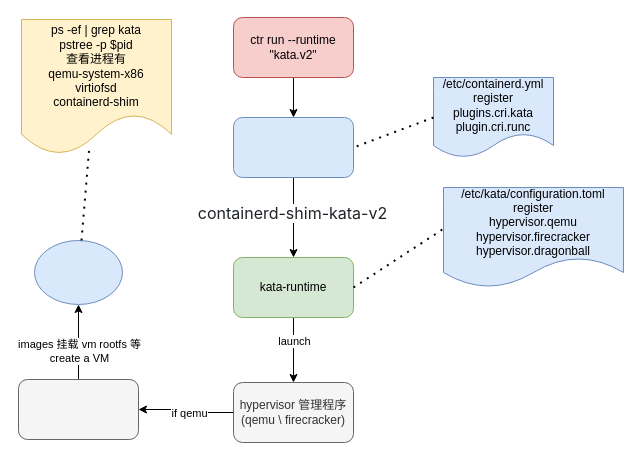
This 641x460 diagram has some shape labels left out. The shapes that lost their labels are listed below. From the top down, each one's centre as x and y in pixels, then its label:
[293,147]: containerd
[78,272]: VM
[78,409]: /opt/kata/bin/qemu-system-x86_64
